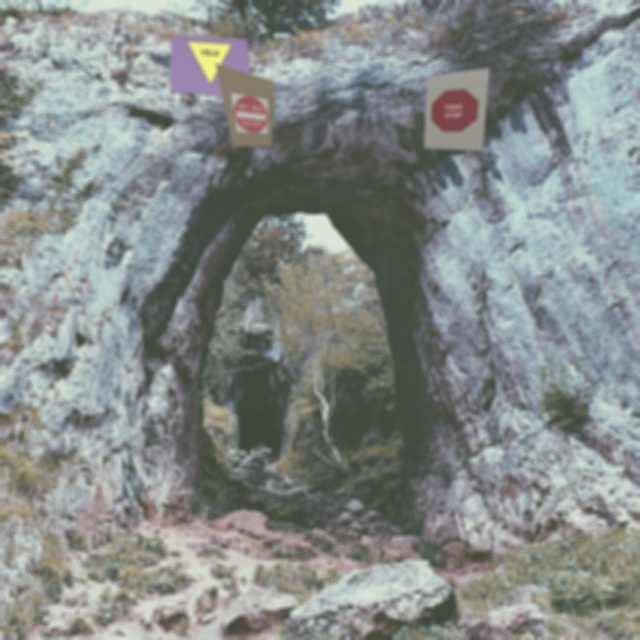DO_NOT_ENTER: (230, 92, 270, 134)
FAKE_STOP: (431, 83, 480, 137)
YIELD: (187, 41, 235, 87)
